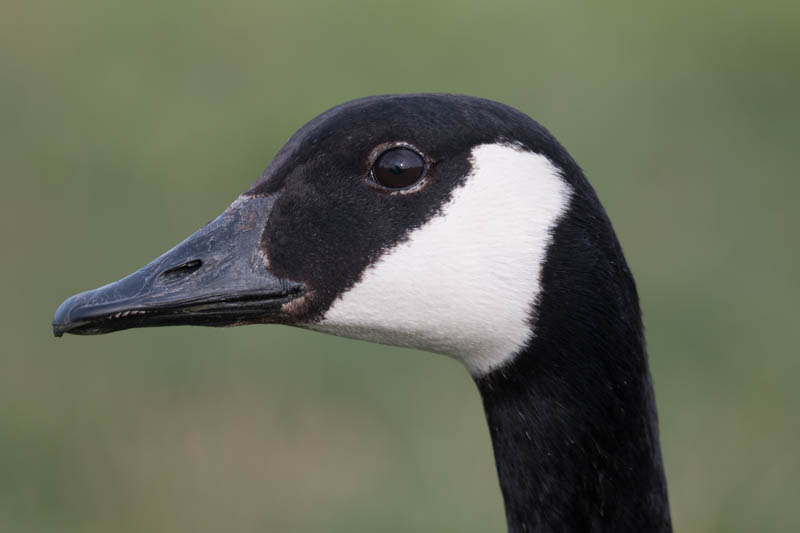goose-head: (51, 90, 641, 382)
